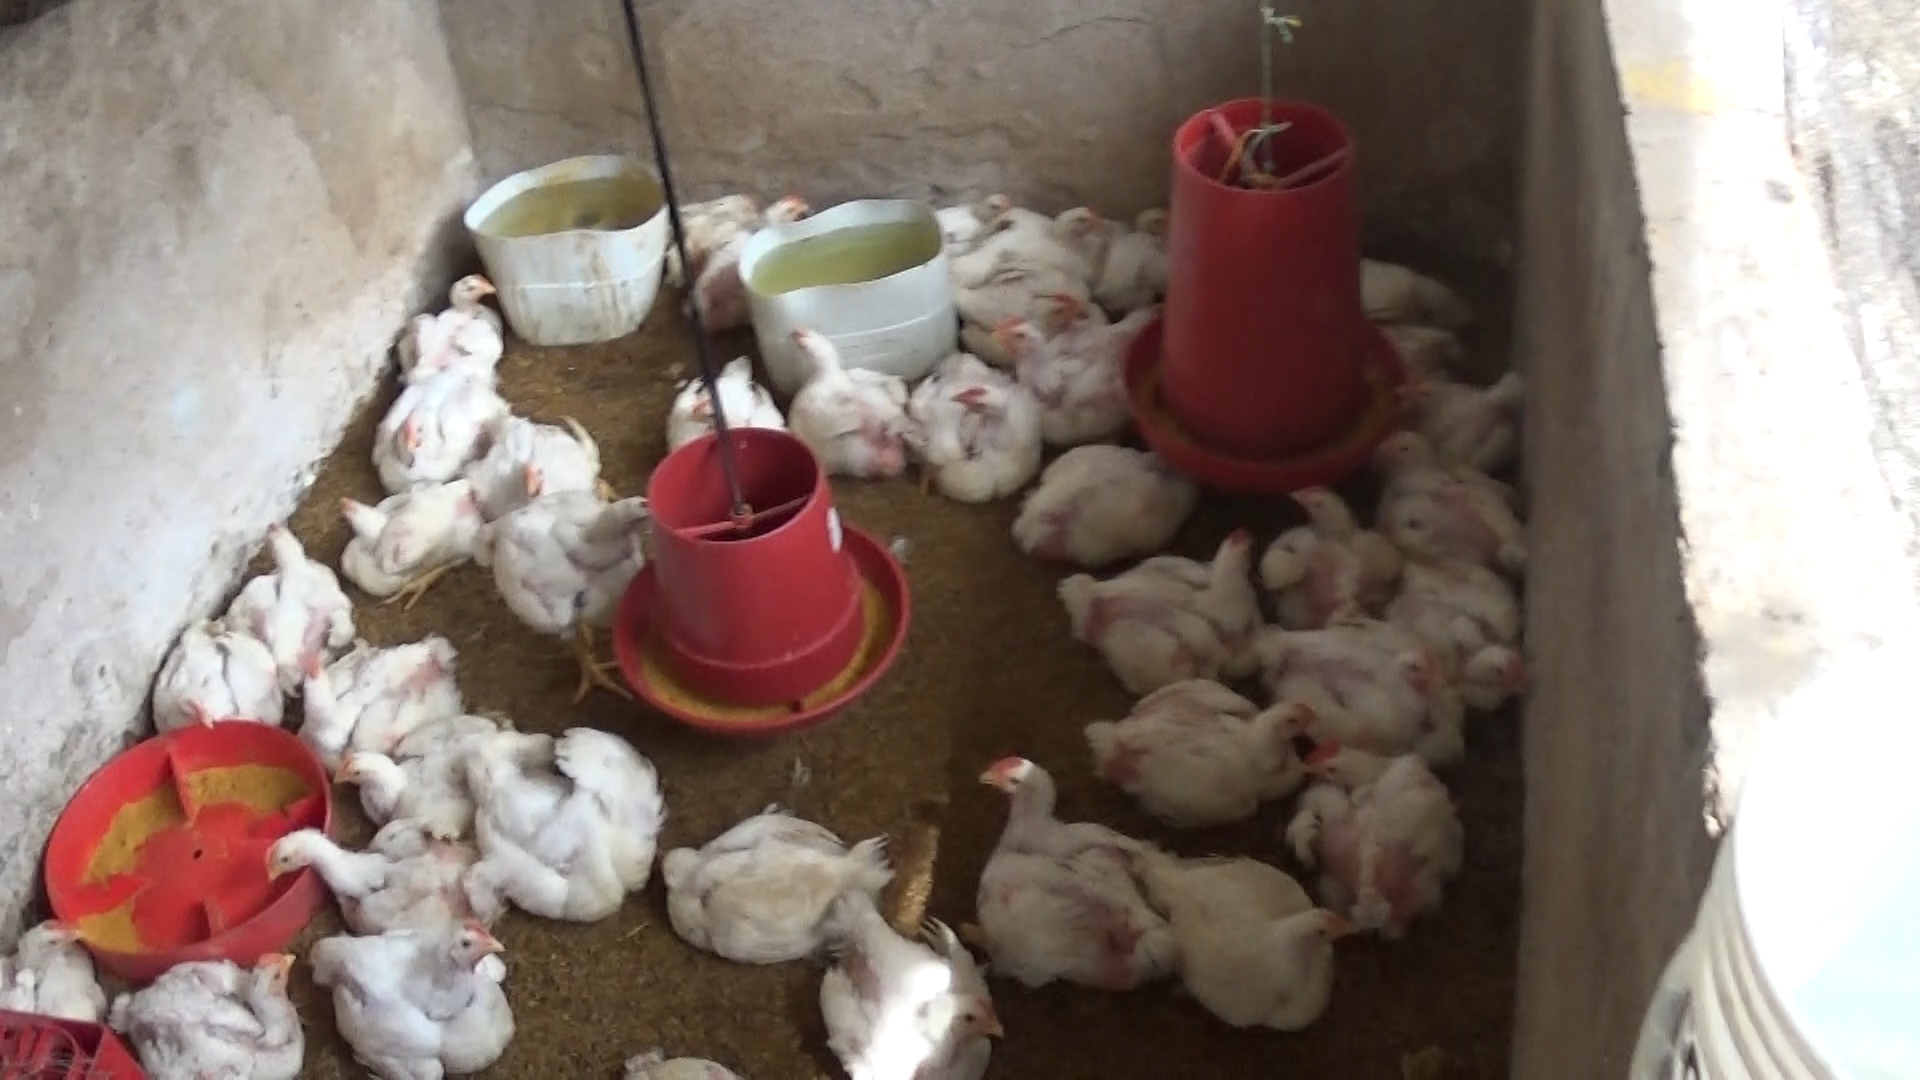Pollos: (960, 744, 1164, 986), (431, 731, 655, 923), (806, 877, 1006, 1073), (1083, 658, 1307, 833), (1126, 857, 1342, 1031), (1291, 732, 1458, 936), (662, 804, 880, 961), (309, 717, 524, 876), (315, 920, 526, 1077), (1056, 531, 1265, 684), (240, 814, 476, 945), (483, 473, 637, 671), (272, 622, 467, 778), (107, 938, 315, 1080), (324, 469, 491, 618), (340, 357, 498, 512), (1251, 621, 1456, 738), (132, 624, 290, 769), (905, 342, 1051, 495), (1006, 440, 1196, 556), (227, 529, 372, 676), (782, 320, 905, 491), (1367, 571, 1528, 694), (365, 268, 508, 406), (1004, 305, 1168, 418), (650, 349, 785, 487), (688, 185, 810, 324), (1280, 481, 1406, 609), (1365, 502, 1515, 607), (1374, 431, 1518, 531), (480, 397, 605, 512), (953, 272, 1118, 348), (1067, 196, 1195, 294), (952, 198, 1097, 282), (1396, 360, 1531, 448), (0, 905, 94, 1011), (911, 179, 1026, 236)
